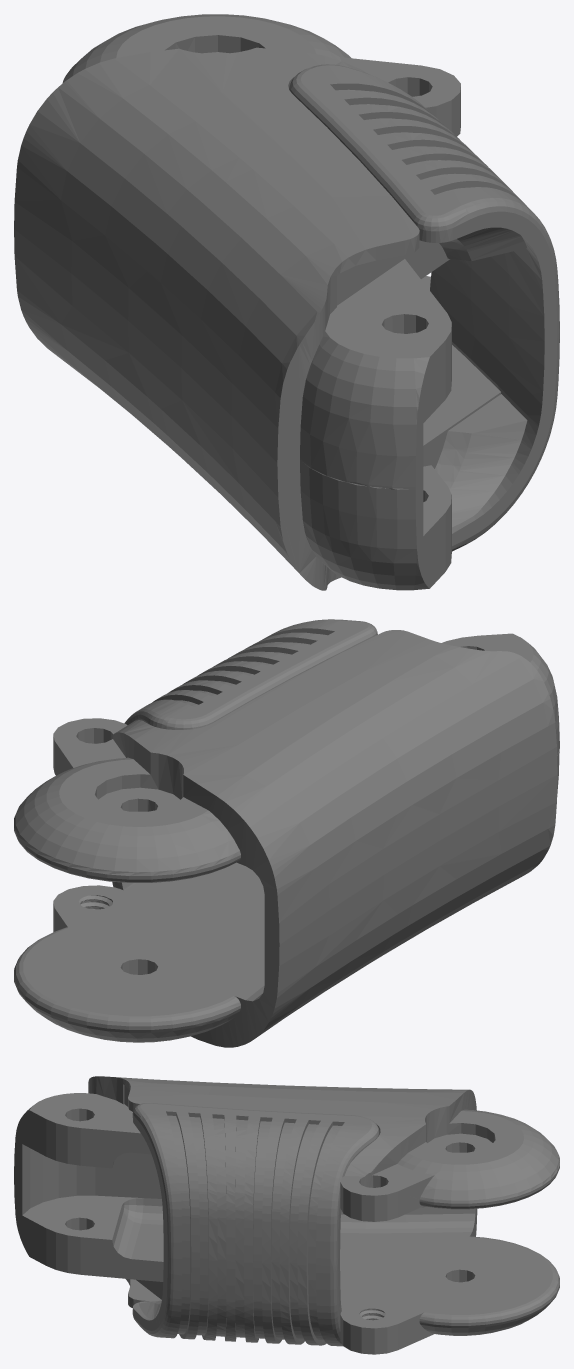
Rendered from rh_middle_middle_vis.obj.
The picture shows the model from 3 angles, top to bottom: view 1: azimuth 30°, elevation 25°; view 2: azimuth 150°, elevation 25°; view 3: azimuth 270°, elevation 25°; orthographic projection. The views are drawn at different scales.
Parts seen in each view (by area): view 1: rh_middle_middle; view 2: rh_middle_middle; view 3: rh_middle_middle.
Part boxes in pixels (<box>): rh_middle_middle: <box>14,14,559,590</box>; rh_middle_middle: <box>14,619,559,1047</box>; rh_middle_middle: <box>14,1076,559,1354</box>.
Bounding box in the file's own units: 0.0198 × 0.016 × 0.0368.
Materials: 1 (1 with a texture image).
